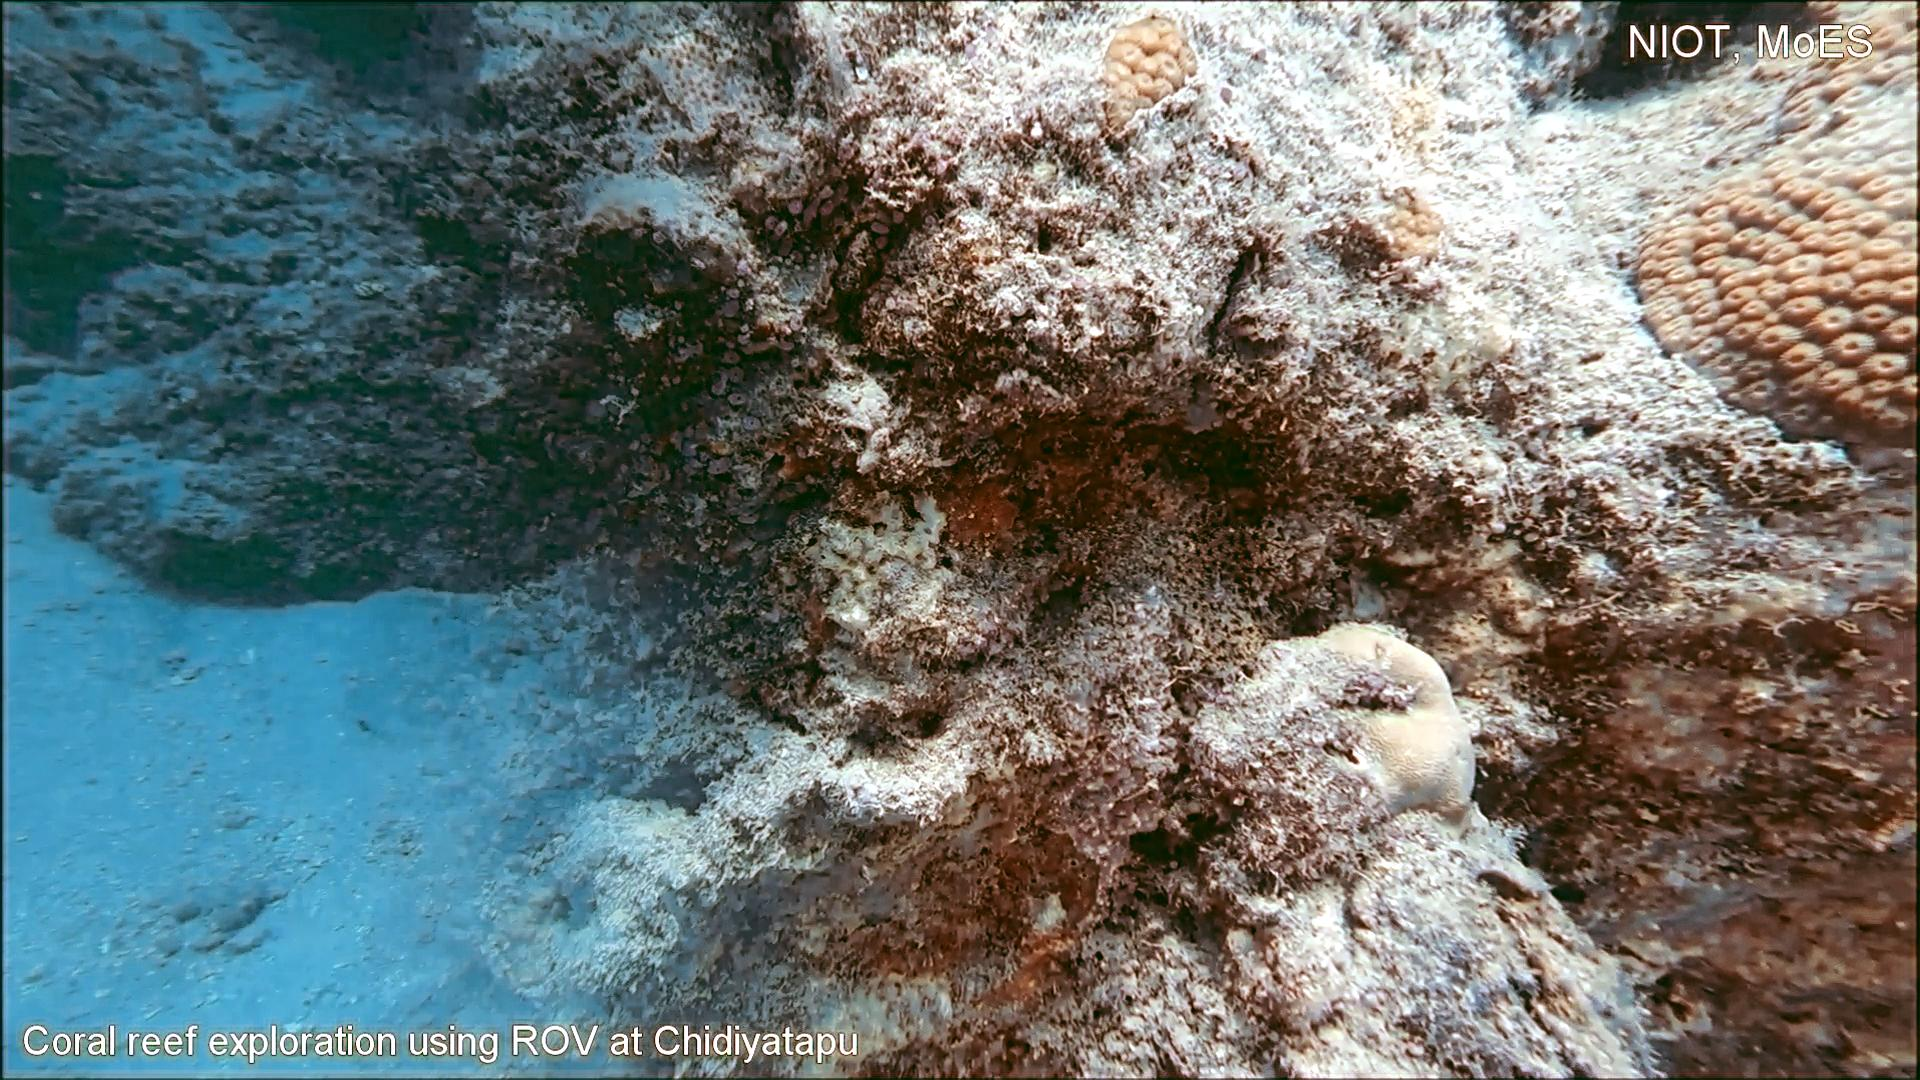Montastraea: (1610, 0, 1920, 467)
